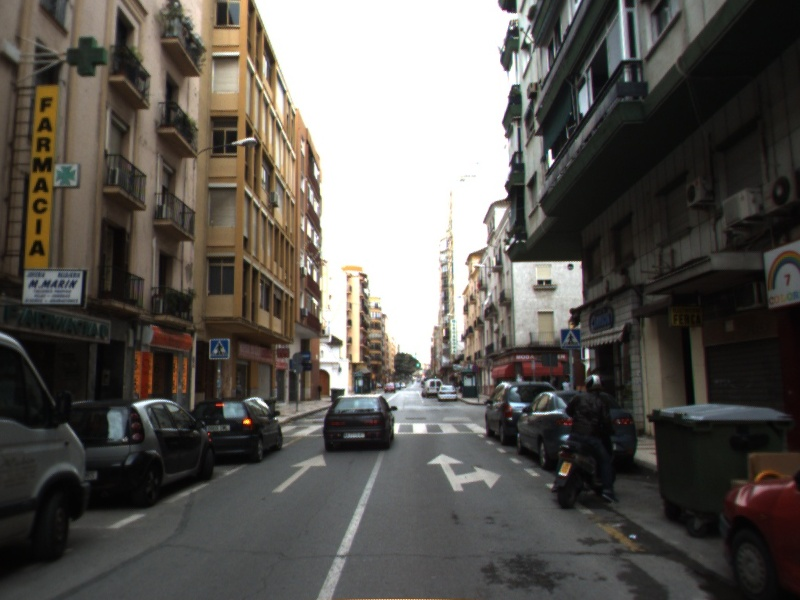STRAIGHT: (270, 452, 328, 494)
STRAIGHT_RIGHT: (425, 452, 503, 493)
